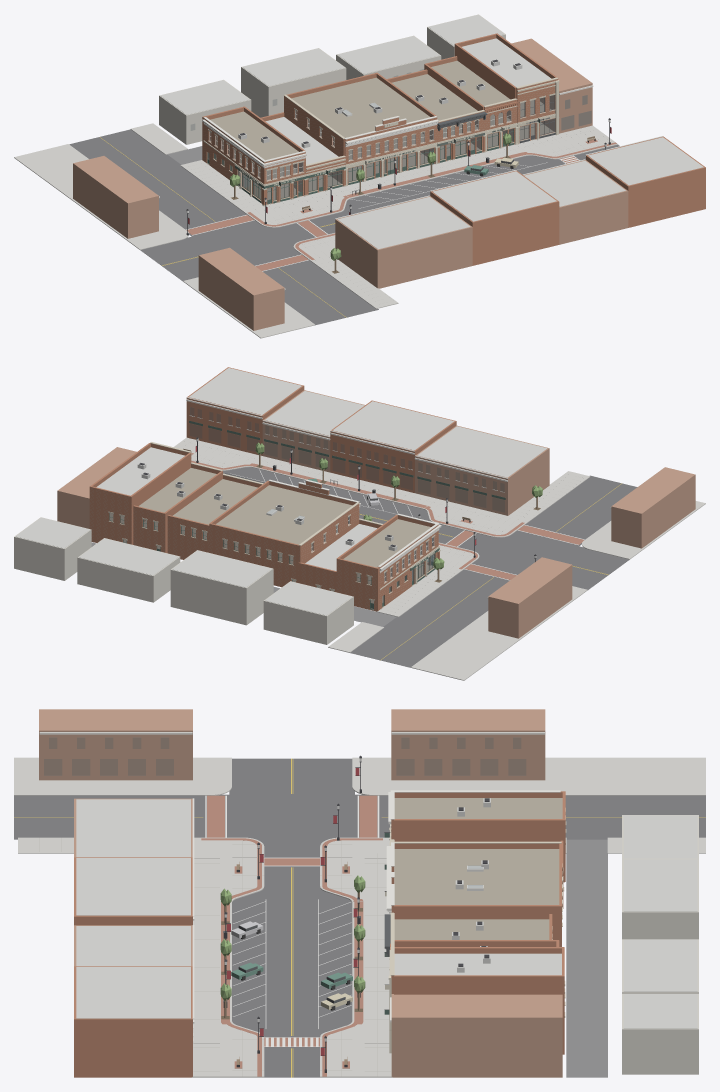
File: clay-inglewood-main-street-clay-v004.glb
3 views of the same model, one above another, from view 1: azimuth 30°, elevation 25°; view 2: azimuth 150°, elevation 25°; view 3: azimuth 270°, elevation 25° (orthographic). The views are drawn at different scales.
Visible parts, largest first — view 1: CLAY_MEMBRANE, CLAY_WALL, CLAY_NEIGHBOUR, CLAY_ASPHALT, CLAY_CONCRETE, CLAY_ROOF, CLAY_CONTEXT, CLAY_GLASS, CLAY_STONE, CLAY_WHITE, CLAY_FLOOR, CLAY_PAVER (+6 smaller); view 2: CLAY_WALL, CLAY_MEMBRANE, CLAY_NEIGHBOUR, CLAY_ASPHALT, CLAY_CONCRETE, CLAY_CONTEXT, CLAY_ROOF, CLAY_GLASS, CLAY_WHITE, CLAY_PAVER, CLAY_FRAME, CLAY_STONE (+3 smaller); view 3: CLAY_MEMBRANE, CLAY_ASPHALT, CLAY_NEIGHBOUR, CLAY_CONCRETE, CLAY_WALL, CLAY_ROOF, CLAY_LANE, CLAY_CONTEXT, CLAY_PAVER, CLAY_GLASS, CLAY_WHITE, CLAY_MARKING (+6 smaller).
Boxes of the visible parts, box(x1,y1,x2,y2) form: CLAY_MEMBRANE: box(160, 15, 703, 249); CLAY_WALL: box(202, 33, 705, 265); CLAY_NEIGHBOUR: box(73, 38, 628, 330); CLAY_ASPHALT: box(69, 129, 619, 325); CLAY_CONCRETE: box(14, 123, 618, 338); CLAY_ROOF: box(210, 60, 510, 160); CLAY_CONTEXT: box(159, 14, 505, 144); CLAY_GLASS: box(191, 69, 591, 199); CLAY_STONE: box(203, 77, 559, 206); CLAY_WHITE: box(159, 85, 663, 289); CLAY_FLOOR: box(210, 100, 553, 199); CLAY_PAVER: box(186, 139, 616, 270); CLAY_WALL: box(89, 367, 456, 611); CLAY_MEMBRANE: box(15, 368, 547, 615); CLAY_NEIGHBOUR: box(57, 390, 695, 638); CLAY_ASPHALT: box(223, 467, 637, 667); CLAY_CONCRETE: box(173, 437, 705, 680); CLAY_CONTEXT: box(14, 517, 353, 644); CLAY_ROOF: box(139, 468, 430, 567); CLAY_GLASS: box(110, 407, 504, 609); CLAY_WHITE: box(186, 397, 611, 598); CLAY_PAVER: box(191, 453, 584, 579); CLAY_FRAME: box(109, 420, 505, 610); CLAY_STONE: box(108, 442, 440, 607); CLAY_MEMBRANE: box(76, 798, 697, 1028); CLAY_ASPHALT: box(14, 758, 705, 1077); CLAY_NEIGHBOUR: box(39, 709, 562, 1077); CLAY_CONCRETE: box(14, 757, 705, 1077); CLAY_WALL: box(74, 791, 565, 1077); CLAY_ROOF: box(394, 798, 562, 939); CLAY_LANE: box(566, 839, 607, 1077); CLAY_CONTEXT: box(622, 815, 698, 1074); CLAY_PAVER: box(201, 795, 382, 1076); CLAY_GLASS: box(44, 737, 525, 887); CLAY_WHITE: box(39, 732, 560, 1041); CLAY_MARKING: box(205, 795, 379, 1046).
Size of the model in its own units: 108 by 12.54 by 99.
